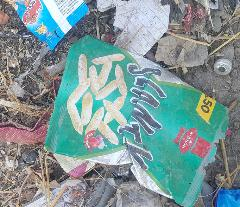general: (44, 36, 230, 206), (4, 0, 86, 52)
